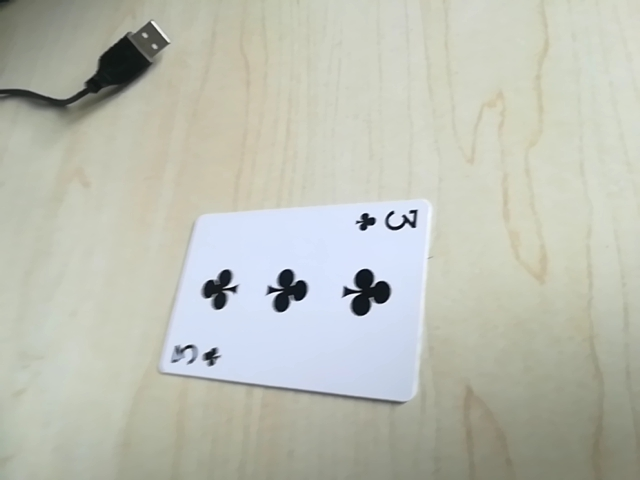mh 3: (352, 203, 422, 238), (166, 339, 229, 372)
